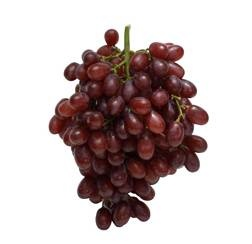Red Grapes: (45, 44, 207, 228)
